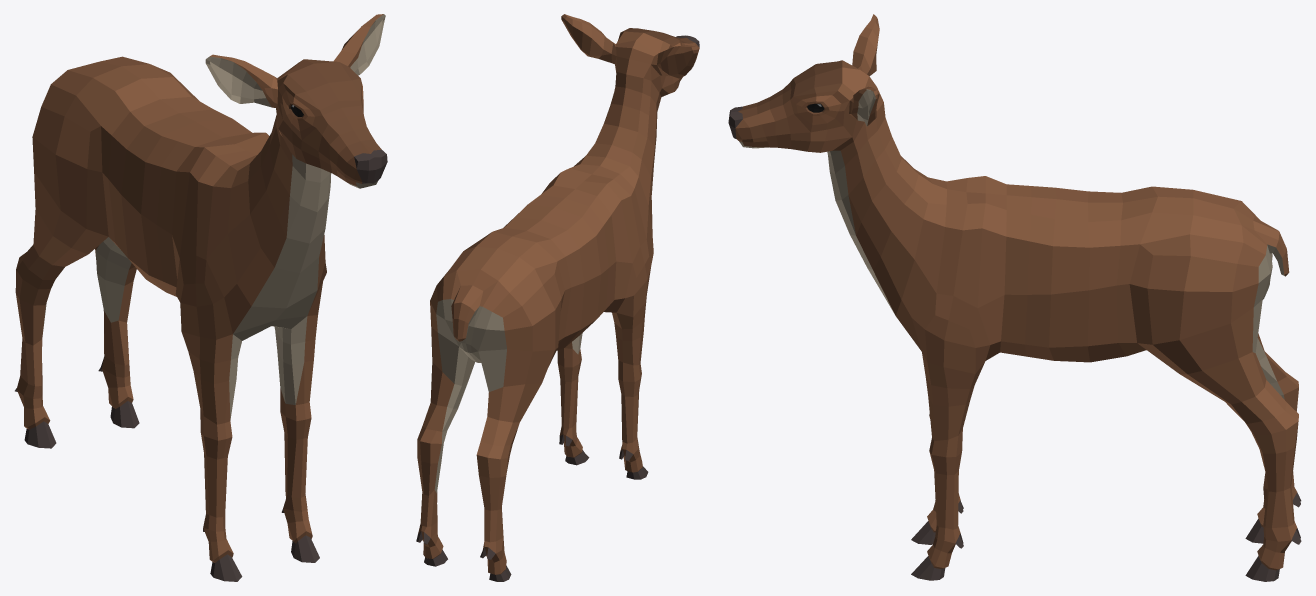
The model's file is forest.glb.
3 renders of one model, left to right at view 1: azimuth 30°, elevation 25°; view 2: azimuth 150°, elevation 25°; view 3: azimuth 270°, elevation 25°, orthographic. The views are drawn at different scales.
Visible parts, largest first — view 1: Deer; view 2: Deer; view 3: Deer.
Boxes of the visible parts, x1=… form: Deer: x1=15, y1=14, x2=387, y2=581; Deer: x1=416, y1=14, x2=699, y2=581; Deer: x1=728, y1=14, x2=1301, y2=581.
Size of the model in its own units: 1.46 by 4.27 by 4.4.
